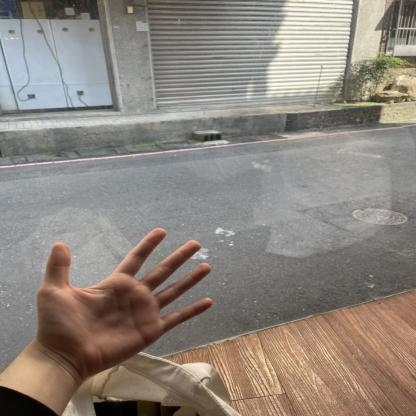bare_hand: (27, 222, 228, 377)
